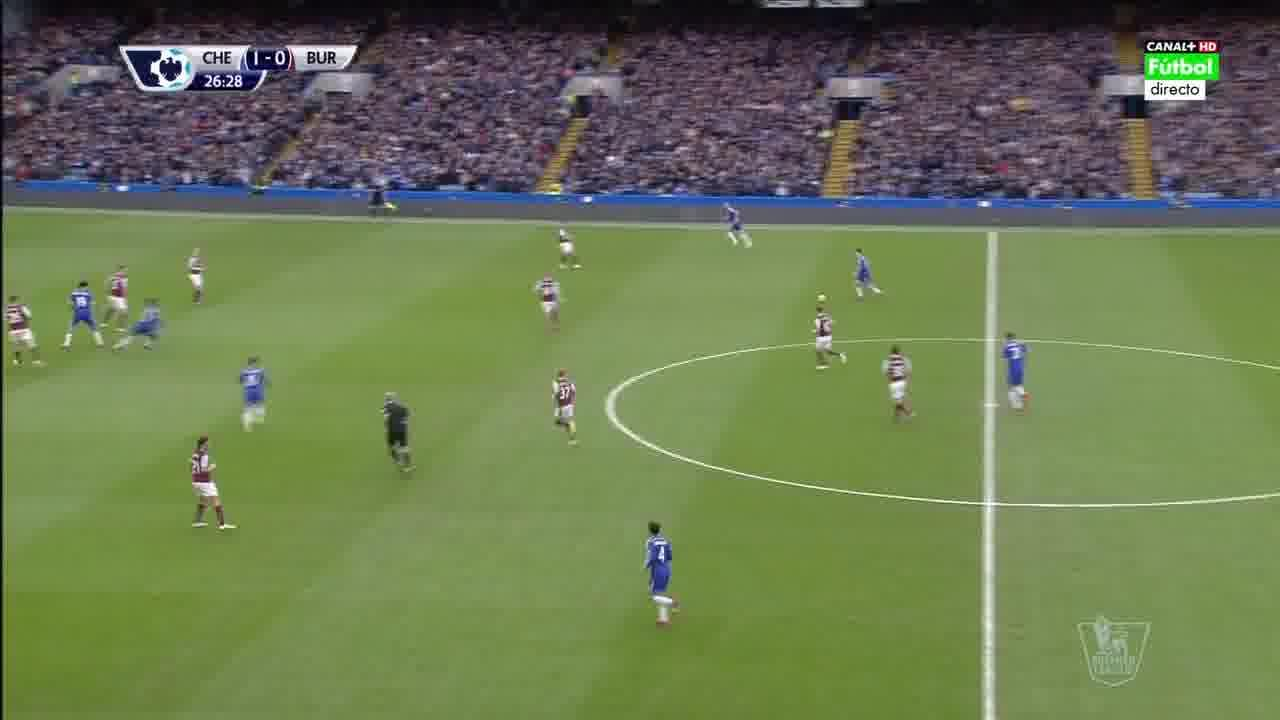football: (816, 293, 830, 304)
